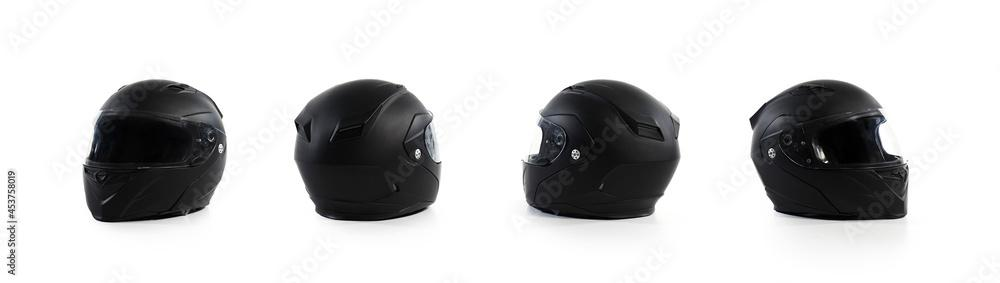helmet: (748, 78, 910, 222), (520, 78, 682, 221), (293, 78, 443, 222), (81, 78, 228, 223)
